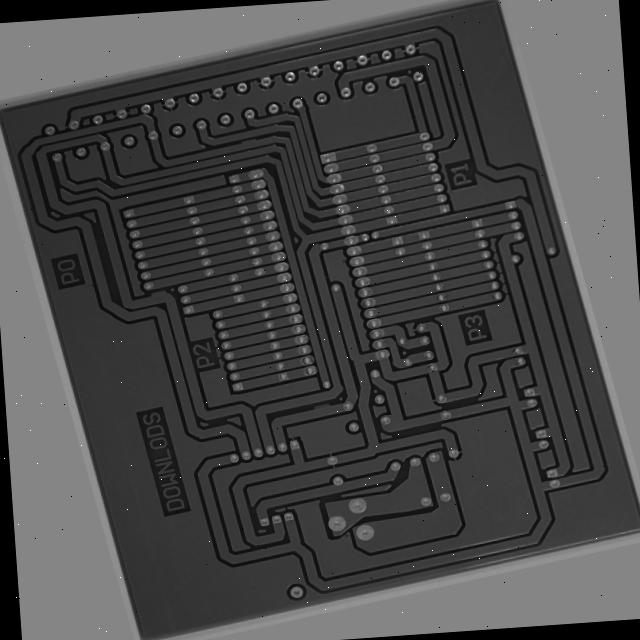spur: (289, 409, 317, 421), (268, 102, 296, 114), (125, 256, 150, 269)
